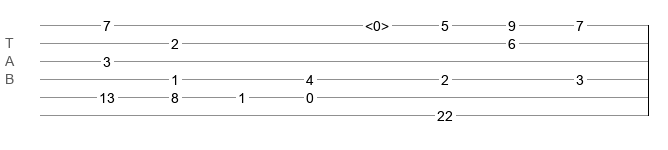0: (306, 90, 314, 100)
1: (171, 72, 179, 82), (238, 90, 246, 100)
13: (99, 90, 115, 100)
2: (171, 36, 179, 46), (441, 72, 449, 82)
22: (437, 108, 453, 118)
3: (103, 54, 111, 64), (576, 72, 584, 82)
4: (306, 72, 314, 82)
5: (441, 18, 449, 28)
6: (508, 36, 516, 46)
7: (103, 18, 111, 28), (576, 18, 584, 28)
8: (171, 90, 179, 100)
9: (508, 18, 516, 28)
harmonic: (365, 18, 389, 28)
